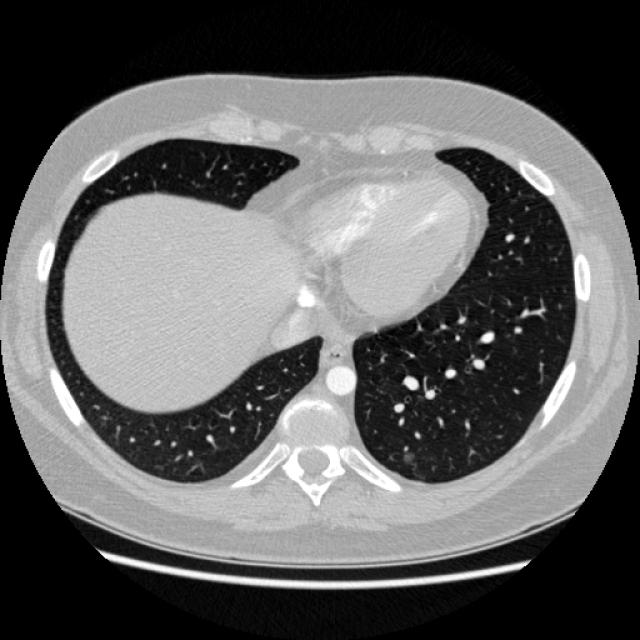nodule: (395, 444, 420, 468)
